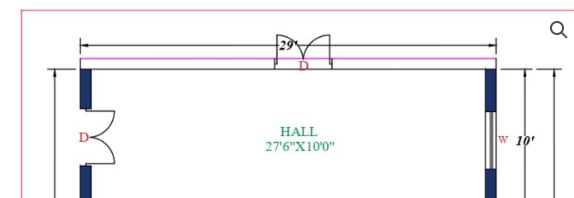double door: (72, 104, 123, 172), (274, 31, 337, 74)
window: (481, 110, 502, 172)
